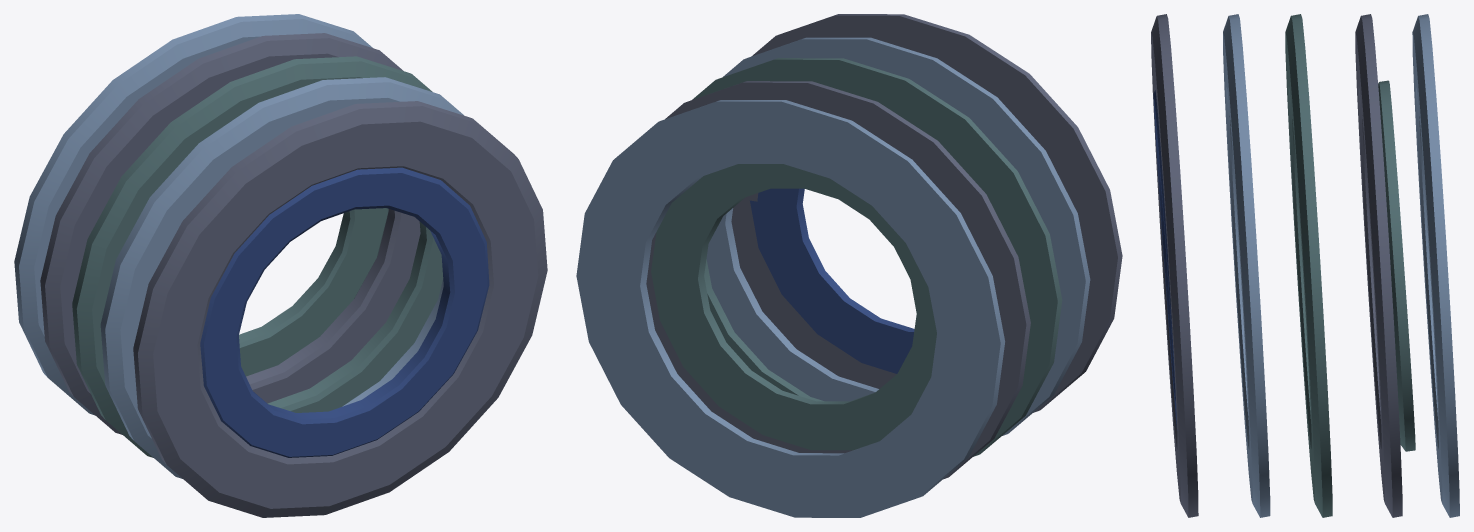
The model's file is portaltipo2.fbx.
3 views of the same model, side by side, from view 1: azimuth 30°, elevation 25°; view 2: azimuth 150°, elevation 25°; view 3: azimuth 270°, elevation 25° (orthographic). The views are drawn at different scales.
Parts seen in each view (by area): view 1: pPipe69; view 2: pPipe69; view 3: pPipe69.
Part boxes in pixels (box(x1,y1,x2,y2)): pPipe69: box(14, 14, 547, 517); pPipe69: box(576, 14, 1122, 517); pPipe69: box(1151, 14, 1459, 517).
Bounding box in the file's own units: 142 × 132 × 82.02.
